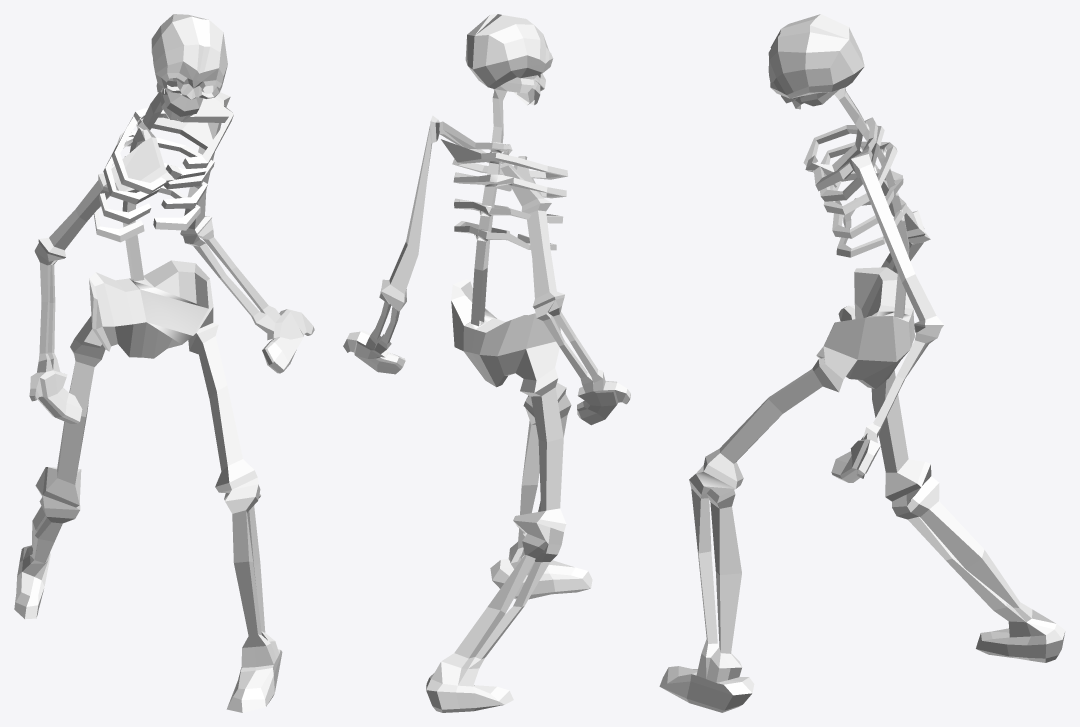
The model's file is SkeletonIdle(48).obj.
3 renders of one model, left to right at view 1: azimuth 30°, elevation 25°; view 2: azimuth 150°, elevation 25°; view 3: azimuth 270°, elevation 25°, orthographic. The views are drawn at different scales.
Visible parts, largest first — view 1: Object002; view 2: Object002; view 3: Object002.
Part boxes in pixels (x1,y1,x2,y2): Object002: (14,14,314,712); Object002: (343,14,630,712); Object002: (659,14,1065,712).
Size of the model in its own units: 529 by 1117 by 609.
